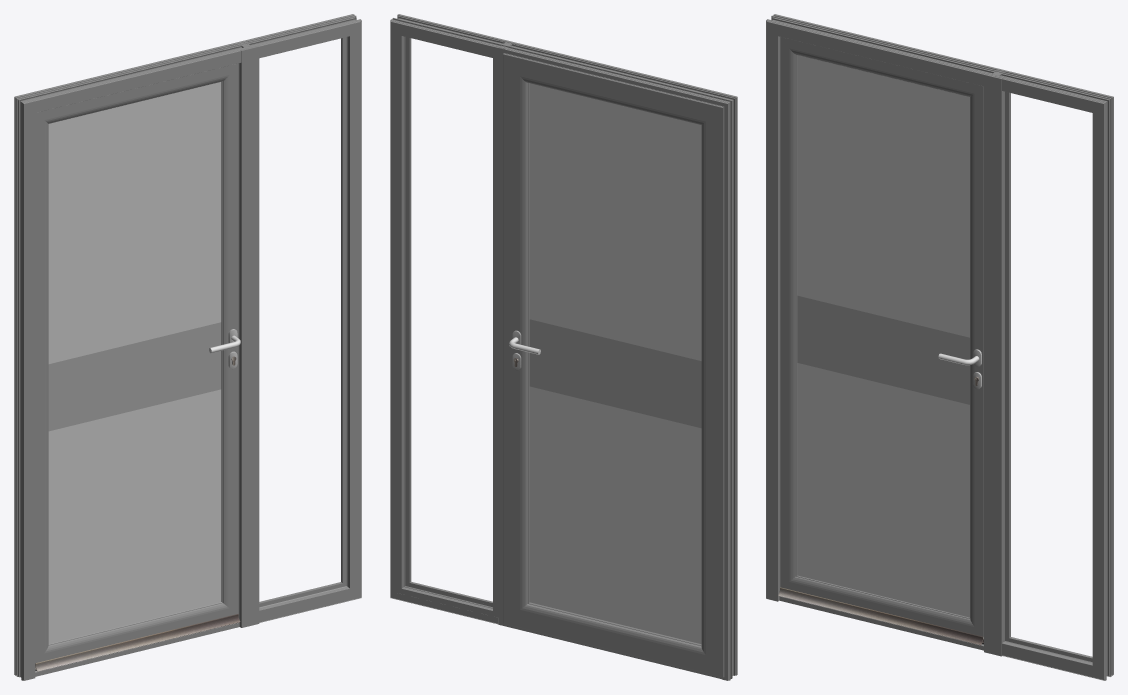
The picture shows the model from 3 angles, left to right: view 1: azimuth 30°, elevation 25°; view 2: azimuth 150°, elevation 25°; view 3: azimuth 330°, elevation 25°; orthographic projection.
Visible parts, largest first — view 1: fosco, aroFixo, aroMovel, montanteCentral, transparente, bite, borracha, escovas, rodaPe; view 2: fosco, aroMovel, aroFixo, transparente, bite, montanteCentral, borracha, rodaPe; view 3: fosco, aroFixo, aroMovel, montanteCentral, transparente, bite, escovas, borracha, rodaPe.
Part boxes in pixels (x1=…): fosco: x1=48, y1=82, x2=221, y2=643; aroFixo: x1=14, y1=14, x2=361, y2=680; aroMovel: x1=35, y1=63, x2=238, y2=663; montanteCentral: x1=238, y1=42, x2=259, y2=627; transparente: x1=48, y1=322, x2=221, y2=431; bite: x1=259, y1=37, x2=346, y2=607; borracha: x1=259, y1=37, x2=345, y2=606; escovas: x1=35, y1=614, x2=240, y2=671; rodaPe: x1=35, y1=622, x2=239, y2=676; fosco: x1=529, y1=83, x2=701, y2=644; aroMovel: x1=503, y1=53, x2=724, y2=677; aroFixo: x1=390, y1=14, x2=737, y2=680; transparente: x1=529, y1=319, x2=701, y2=428; bite: x1=396, y1=29, x2=498, y2=617; montanteCentral: x1=498, y1=40, x2=518, y2=626; borracha: x1=404, y1=36, x2=492, y2=608; rodaPe: x1=505, y1=624, x2=721, y2=679; fosco: x1=797, y1=55, x2=969, y2=617; aroFixo: x1=766, y1=14, x2=1113, y2=680; aroMovel: x1=780, y1=37, x2=983, y2=638; montanteCentral: x1=984, y1=70, x2=1004, y2=656; transparente: x1=797, y1=295, x2=969, y2=404; bite: x1=1005, y1=91, x2=1092, y2=661; escovas: x1=778, y1=587, x2=983, y2=645; borracha: x1=1006, y1=92, x2=1092, y2=660; rodaPe: x1=779, y1=596, x2=983, y2=650.
Bounding box in the file's own units: 1320 × 2149 × 185.
Materials: 10 (4 with a texture image).
